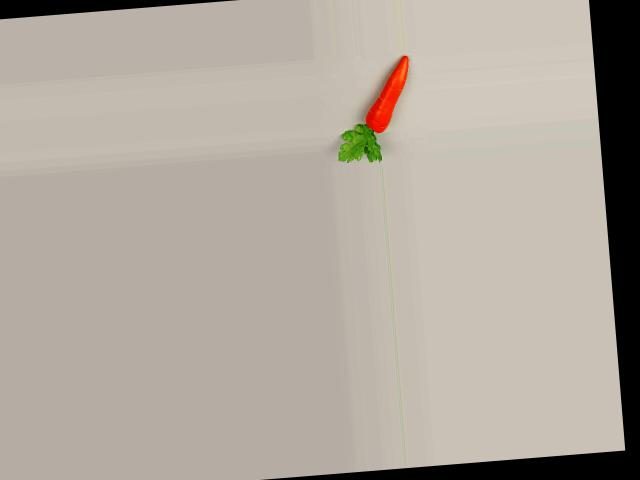carrot: (351, 51, 417, 144)
